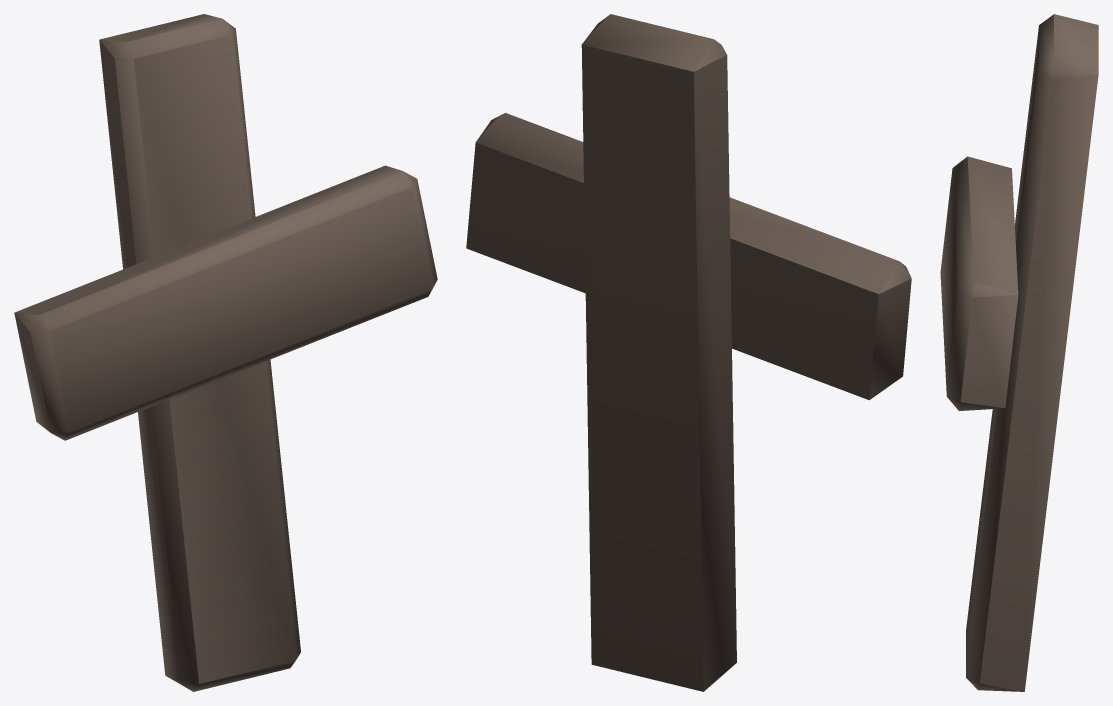
File: gravemarker_A.glb
3 views of the same model, side by side, from view 1: azimuth 30°, elevation 25°; view 2: azimuth 150°, elevation 25°; view 3: azimuth 270°, elevation 25° (orthographic). The views are drawn at different scales.
Visible parts, largest first — view 1: gravemarker_A; view 2: gravemarker_A; view 3: gravemarker_A.
Boxes of the visible parts, x1,y1,x2,y2 form: gravemarker_A: (14,14,437,691); gravemarker_A: (466,14,911,691); gravemarker_A: (940,14,1098,691).
Bounding box in the file's own units: 0.806 × 1.2 × 0.2782.
Materials: 1 (1 with a texture image).
